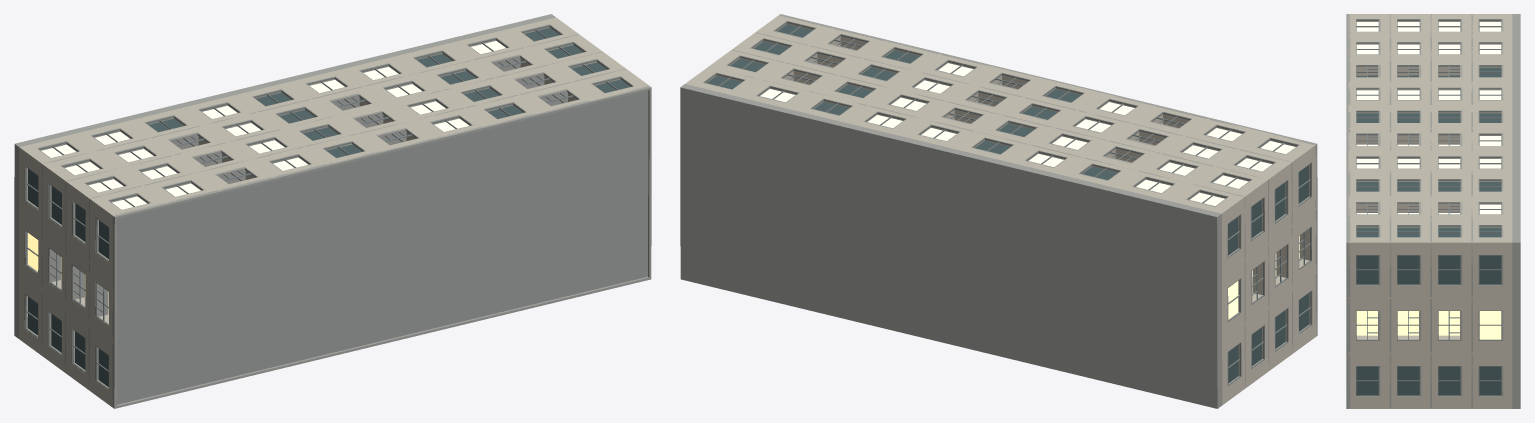
The model's file is residential-near.glb.
The picture shows the model from 3 angles, left to right: view 1: azimuth 30°, elevation 25°; view 2: azimuth 150°, elevation 25°; view 3: azimuth 270°, elevation 25°; orthographic projection. The views are drawn at different scales.
Visible parts, largest first — view 1: way/478990180; view 2: way/478990180; view 3: way/478990180.
Part boxes in pixels (<box>): way/478990180: <box>14,14,651,408</box>; way/478990180: <box>680,14,1317,408</box>; way/478990180: <box>1346,14,1520,408</box>.
Size of the model in its own units: 39.48 by 13.56 by 12.76.
